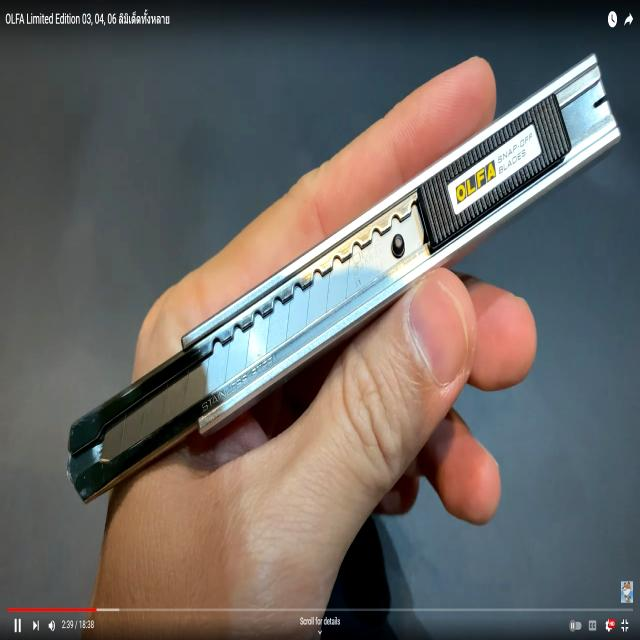cutter: (47, 18, 633, 640)
